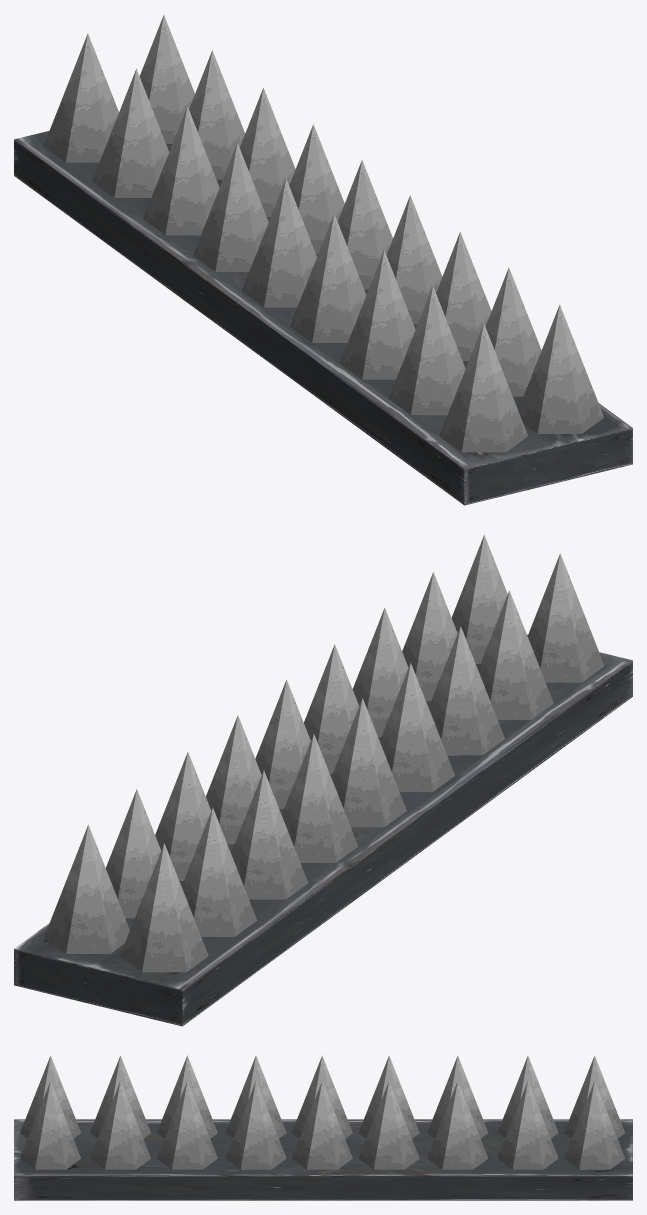
File: Spikes horizontal.fbx
3 renders of one model, top to bottom at view 1: azimuth 30°, elevation 25°; view 2: azimuth 150°, elevation 25°; view 3: azimuth 270°, elevation 25°, orthographic. The views are drawn at different scales.
Parts seen in each view (by area): view 1: polySurface60; view 2: polySurface60; view 3: polySurface60.
Boxes of the visible parts, left/top/right/bottom form: polySurface60: left=14, top=15, right=632, bottom=505; polySurface60: left=14, top=535, right=632, bottom=1026; polySurface60: left=14, top=1055, right=632, bottom=1200.
Bounding box in the file's own units: 2.46 × 2.12 × 11.4.
1 material, 1 textured.
